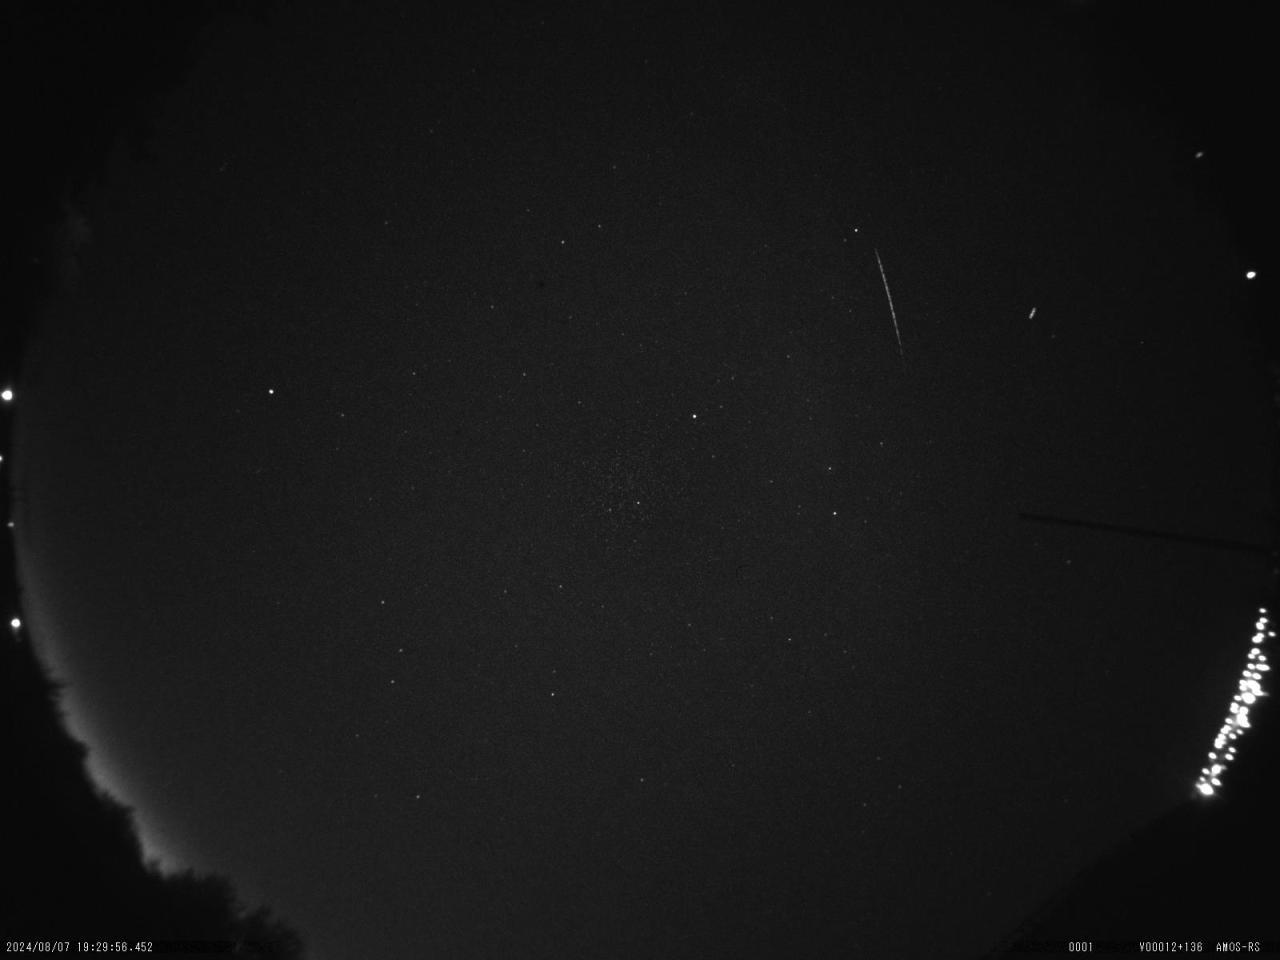Meteor: (871, 240, 907, 355)
